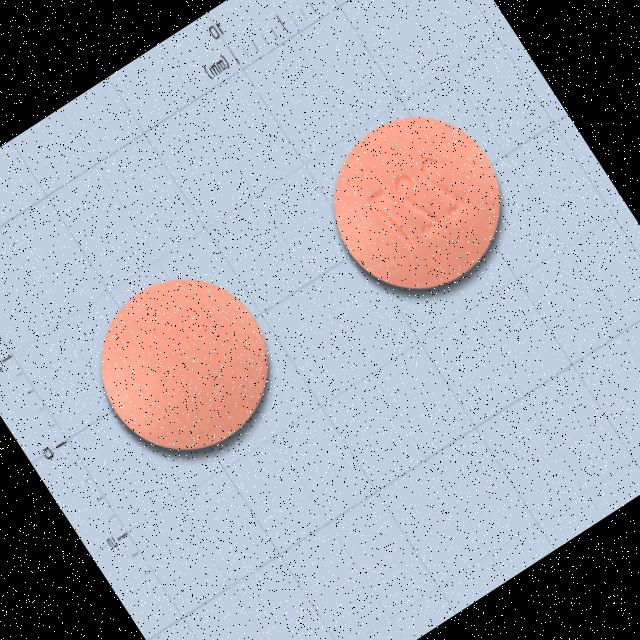Isentress HD: (65, 244, 301, 481), (298, 84, 534, 320)
